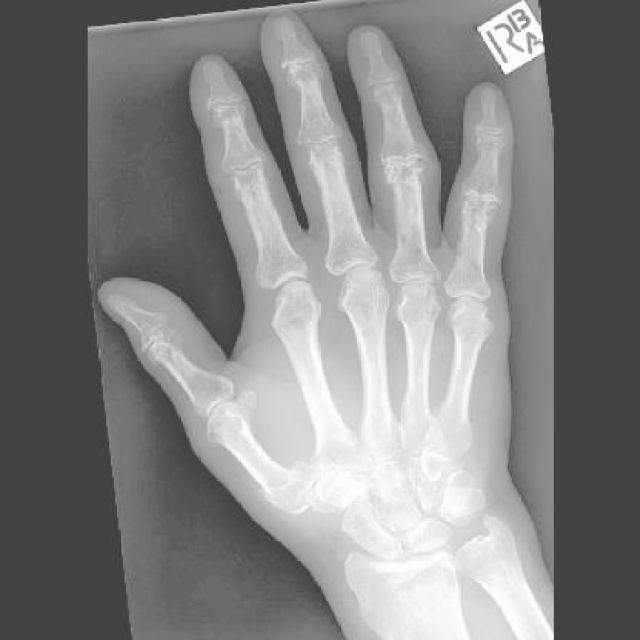Fracture: (259, 462, 310, 508)
